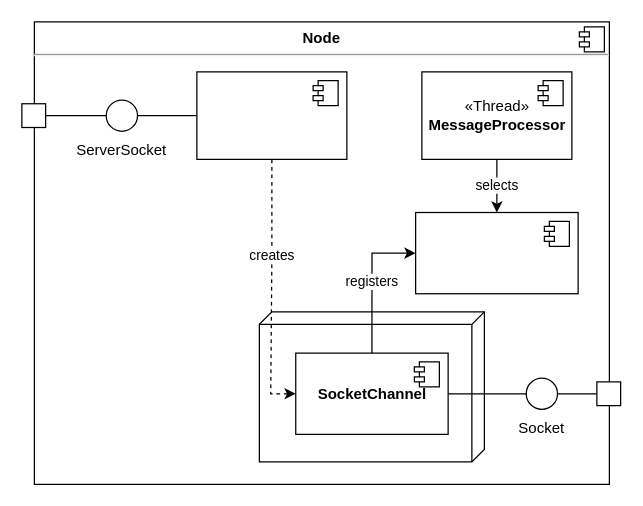
The diagram is 643 pixels wide and 506 high, and some of its shapes have lost their labels. Each missing label, with the centre of its shape:
"Selector" goes at point (496, 252).
"«Thread» SocketAcceptor" goes at point (271, 115).
